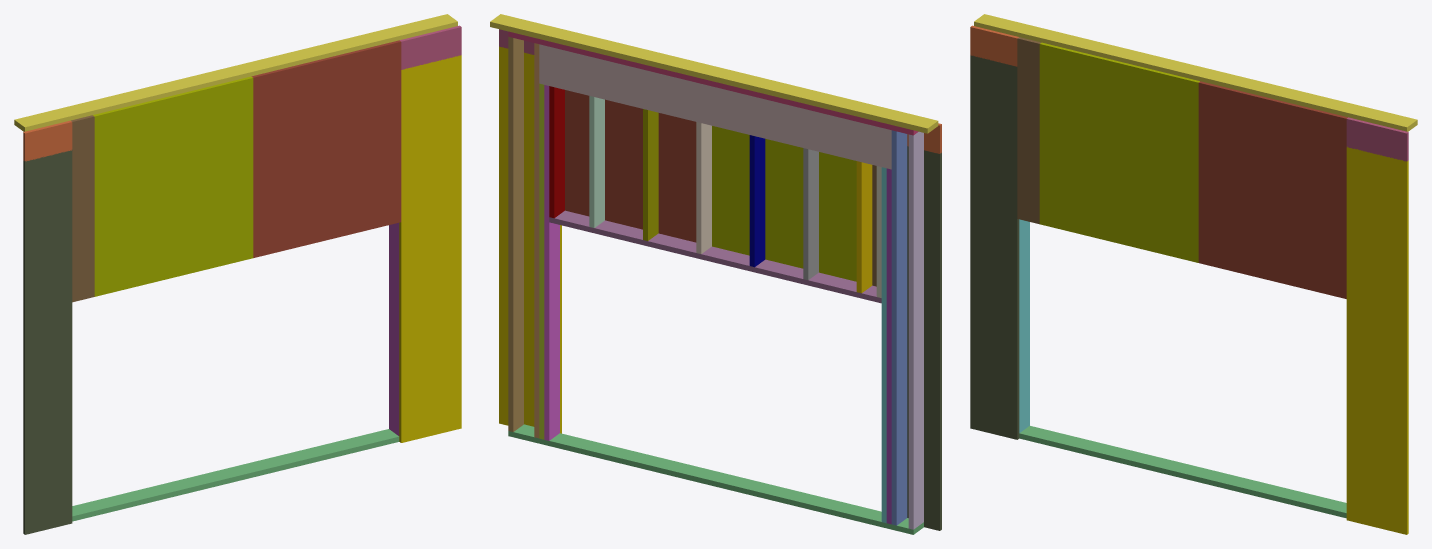
3 views of the same model, side by side, from view 1: azimuth 30°, elevation 25°; view 2: azimuth 150°, elevation 25°; view 3: azimuth 330°, elevation 25° (orthographic).
Visible parts, largest first — view 1: world; view 2: world; view 3: world.
Part boxes in pixels (x1,y1,x2,y2): world: (14,14,461,534); world: (490,14,941,534); world: (970,14,1417,534).
Size of the model in its own units: 132 by 117 by 6.5.
